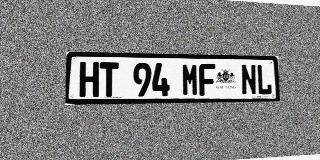4: (152, 63, 170, 96)
9: (133, 63, 151, 96)
F: (199, 64, 216, 96)
H: (79, 62, 99, 97)
L: (256, 64, 272, 95)
M: (182, 63, 199, 96)
N: (241, 64, 257, 95)
T: (100, 62, 119, 97)
